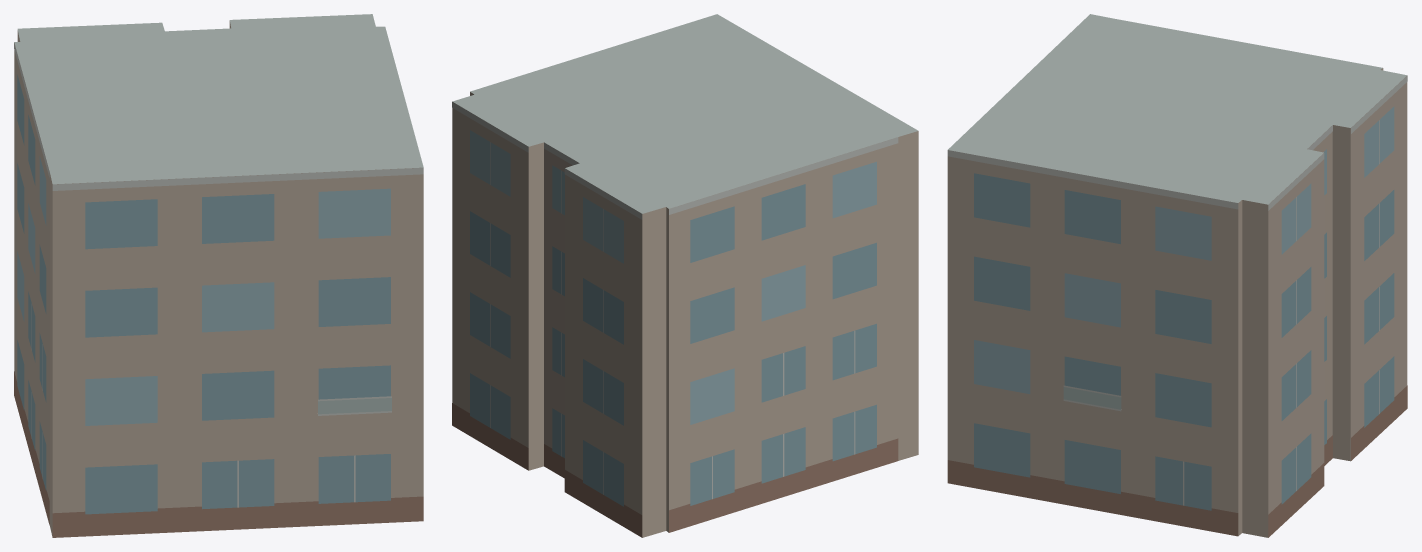
File: survey-upis-32672112.glb
3 views of the same model, side by side, from view 1: azimuth 30°, elevation 25°; view 2: azimuth 150°, elevation 25°; view 3: azimuth 270°, elevation 25° (orthographic). The views are drawn at different scales.
Parts seen in each view (by area): view 1: survey-upis-32672112.tmp; view 2: survey-upis-32672112.tmp; view 3: survey-upis-32672112.tmp.
Boxes of the visible parts, left/top/right/bottom form: survey-upis-32672112.tmp: left=14, top=14, right=423, bottom=537; survey-upis-32672112.tmp: left=452, top=14, right=918, bottom=537; survey-upis-32672112.tmp: left=947, top=14, right=1407, bottom=537.
Bounding box in the file's own units: 15.71 × 12.8 × 16.02.
